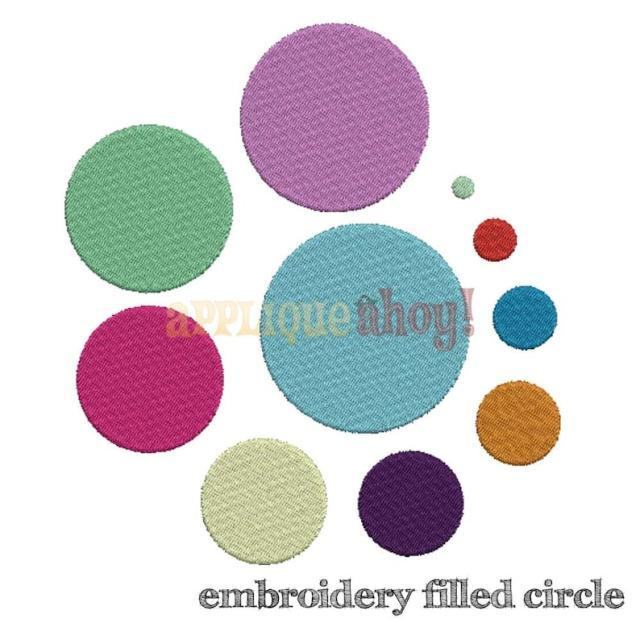Circle: (238, 18, 430, 216), (200, 436, 330, 568), (352, 445, 469, 560), (470, 372, 564, 470), (490, 281, 562, 356), (466, 210, 523, 267)
